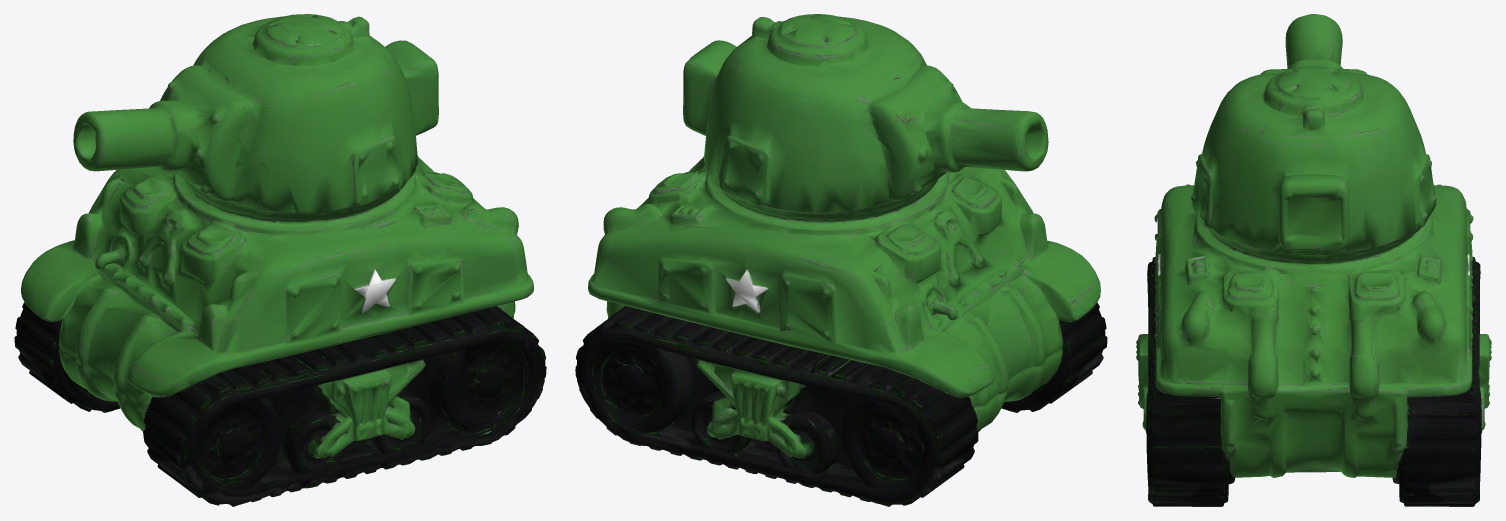
The picture shows the model from 3 angles, left to right: view 1: azimuth 30°, elevation 25°; view 2: azimuth 150°, elevation 25°; view 3: azimuth 270°, elevation 25°; orthographic projection. The views are drawn at different scales.
Parts seen in each view (by area): view 1: Mesh_0; view 2: Mesh_0; view 3: Mesh_0.
Boxes of the visible parts, x1=… form: Mesh_0: x1=14, y1=14, x2=546, y2=506; Mesh_0: x1=575, y1=14, x2=1107, y2=506; Mesh_0: x1=1136, y1=14, x2=1491, y2=506.
Bounding box in the file's own units: 1.91 × 1.77 × 1.52.
Materials: 1 (1 with a texture image).
